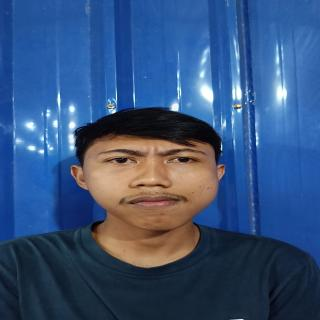Marah: (78, 127, 234, 235)
